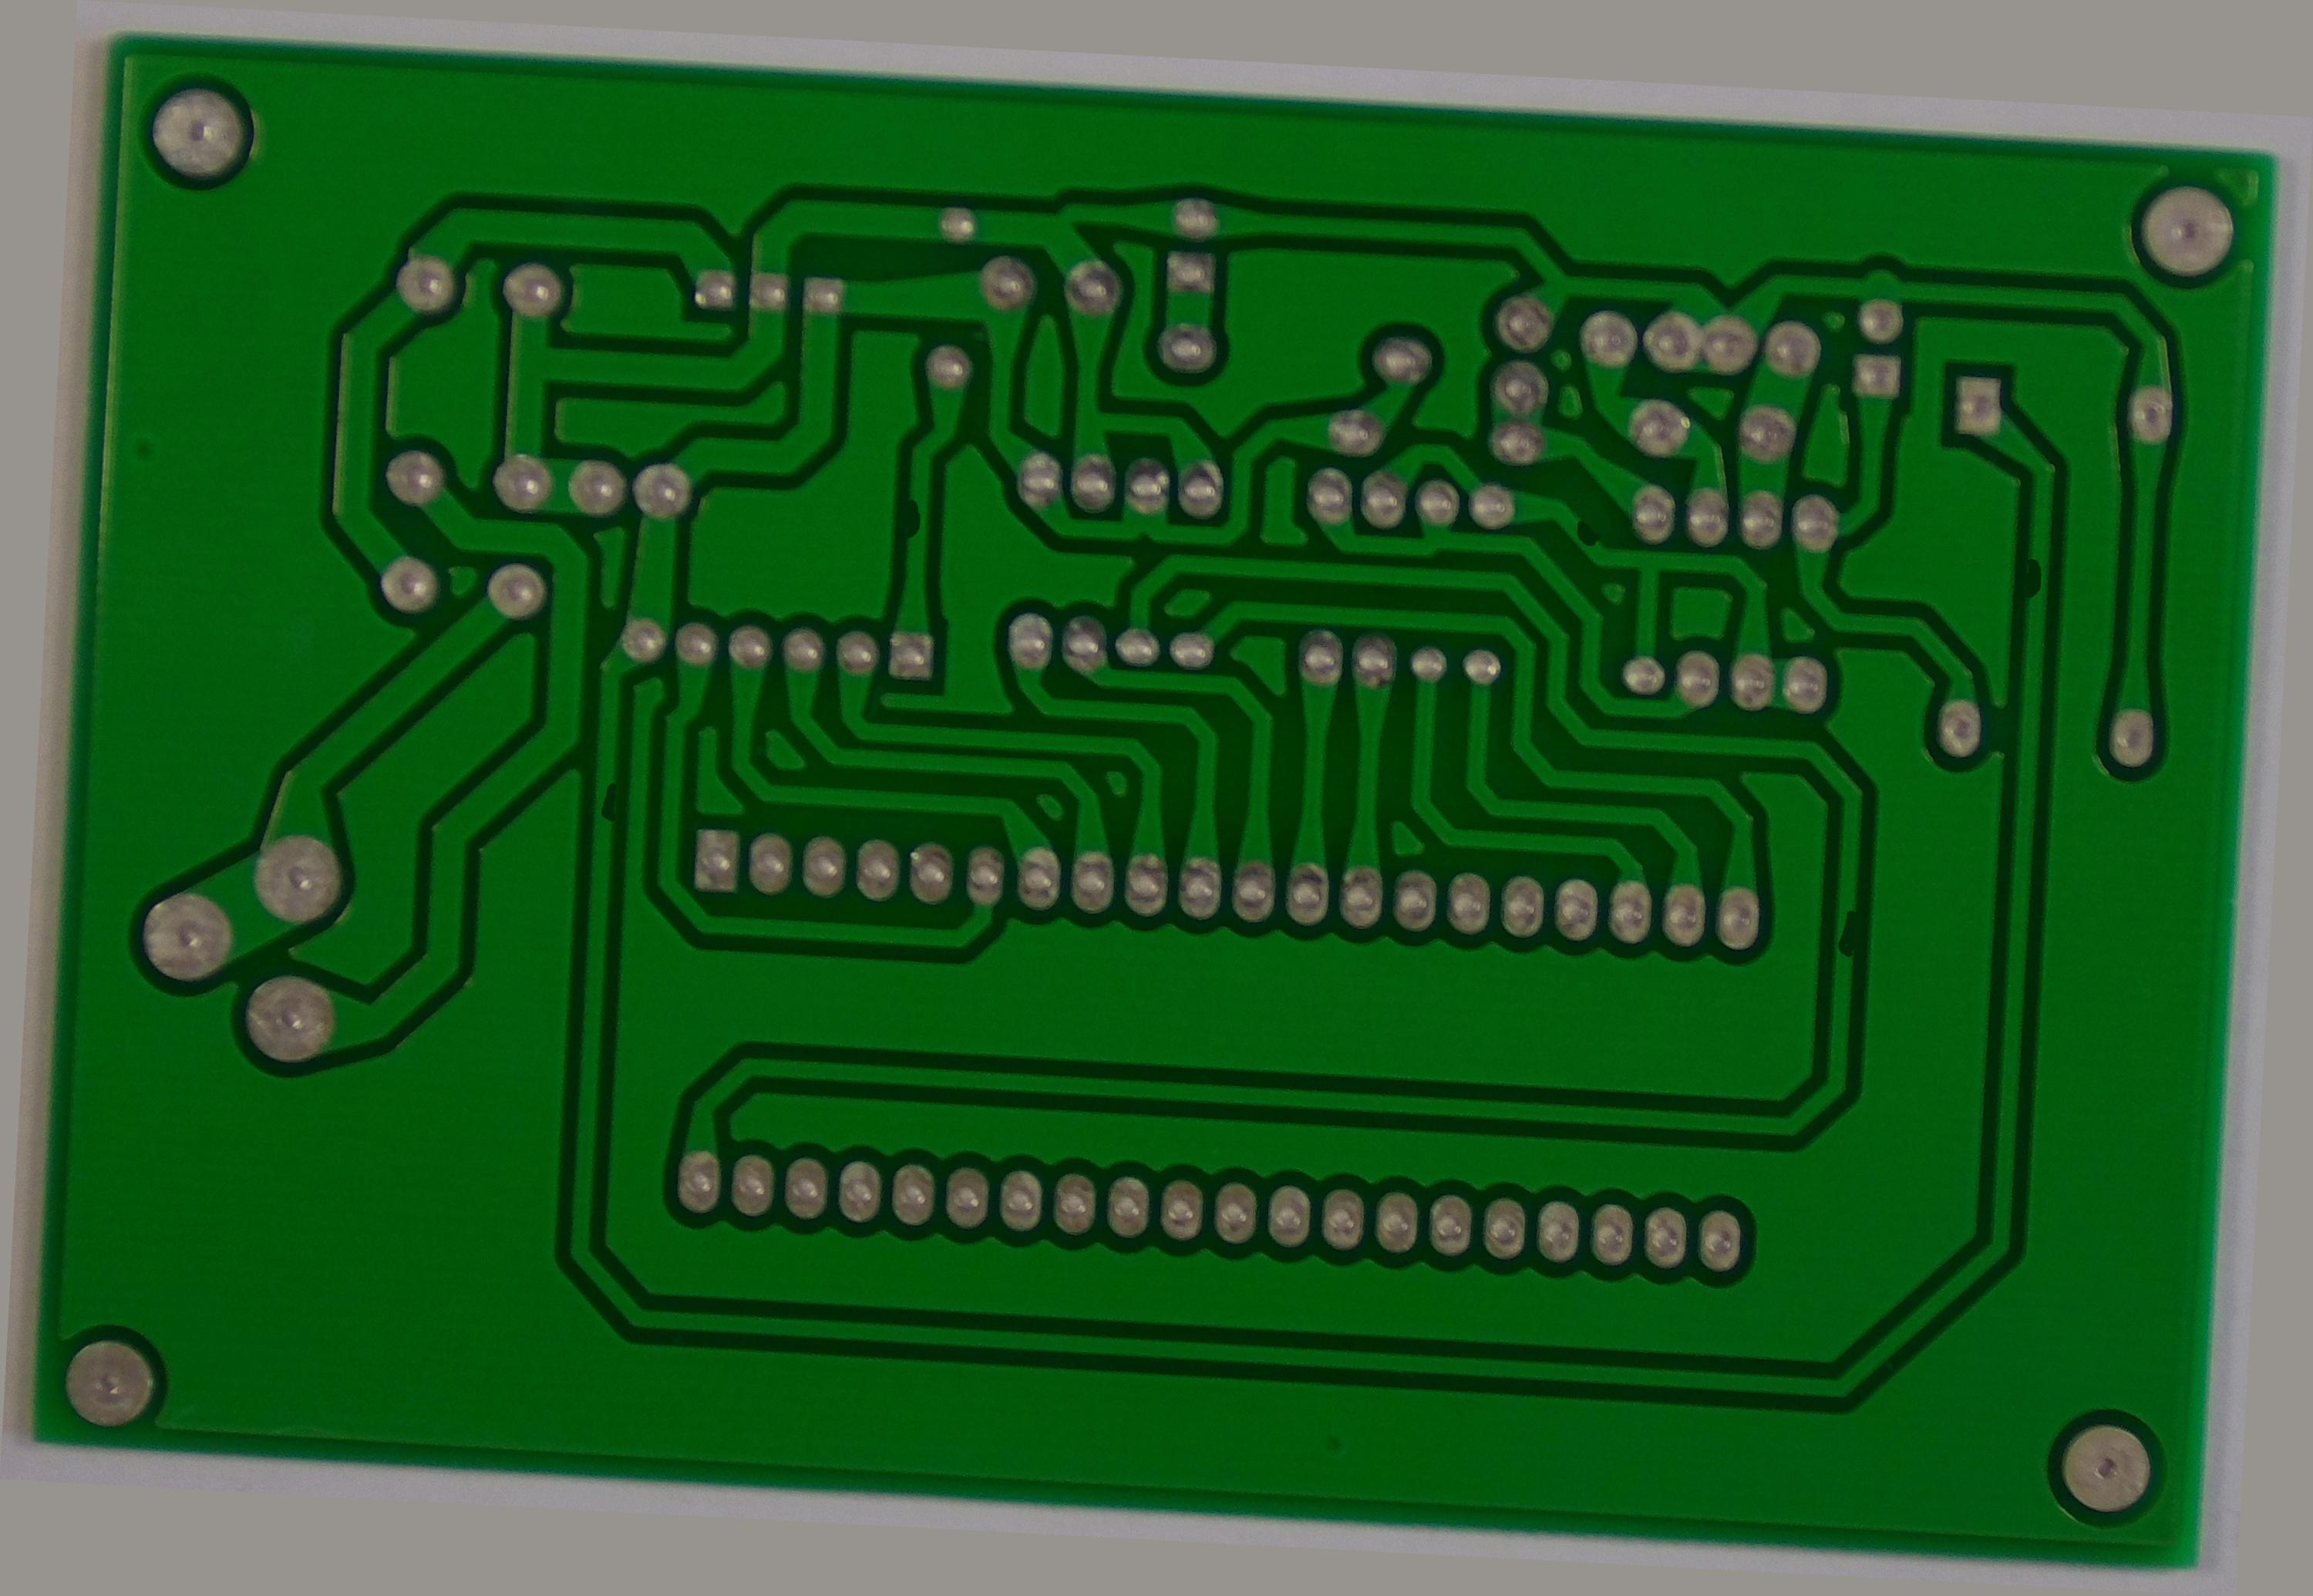mouse_bite: (1854, 856, 1896, 947), (561, 798, 606, 868), (2027, 476, 2065, 552), (868, 478, 912, 536), (1561, 462, 1608, 515)
